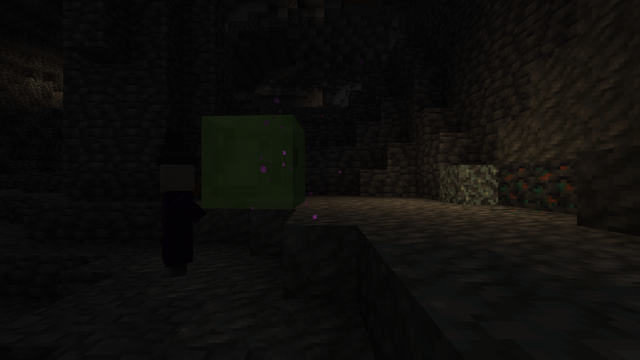slimes: (200, 111, 303, 208)
sorcieres: (148, 159, 201, 278)
